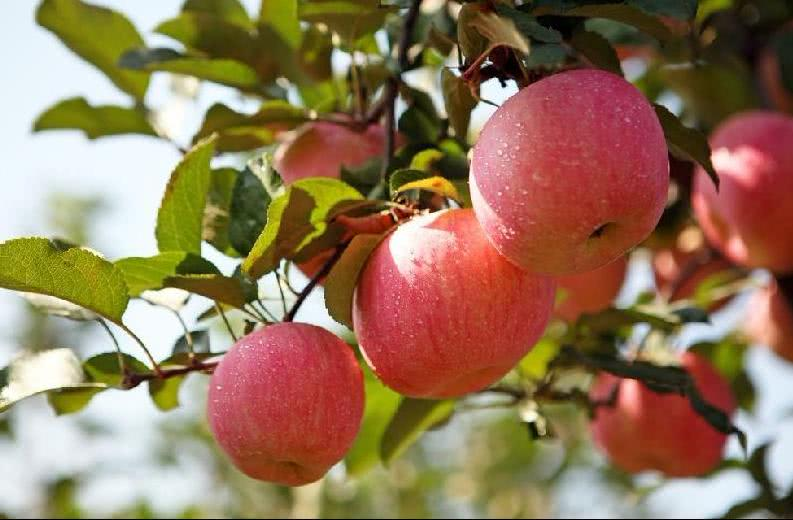fruit_apple: (456, 53, 678, 294), (346, 198, 562, 402), (205, 316, 364, 489), (583, 335, 741, 482), (690, 103, 793, 267)
